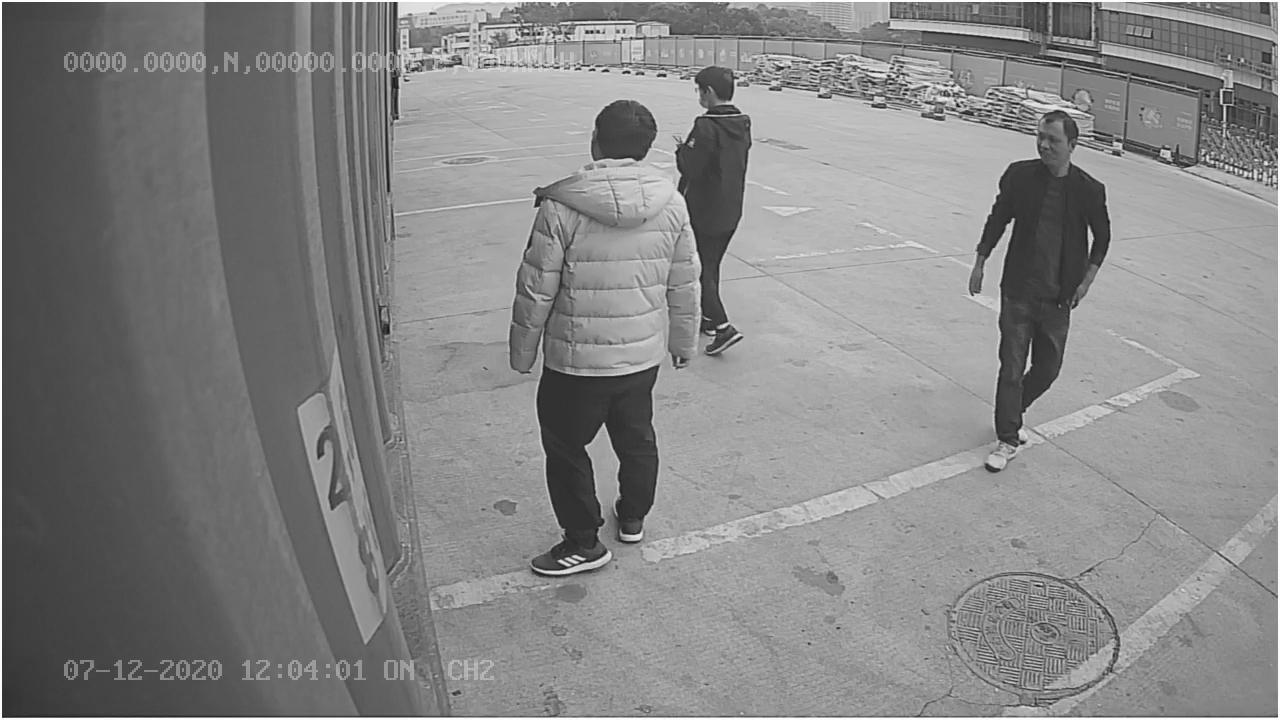person: (509, 101, 703, 575), (968, 99, 1113, 474)
